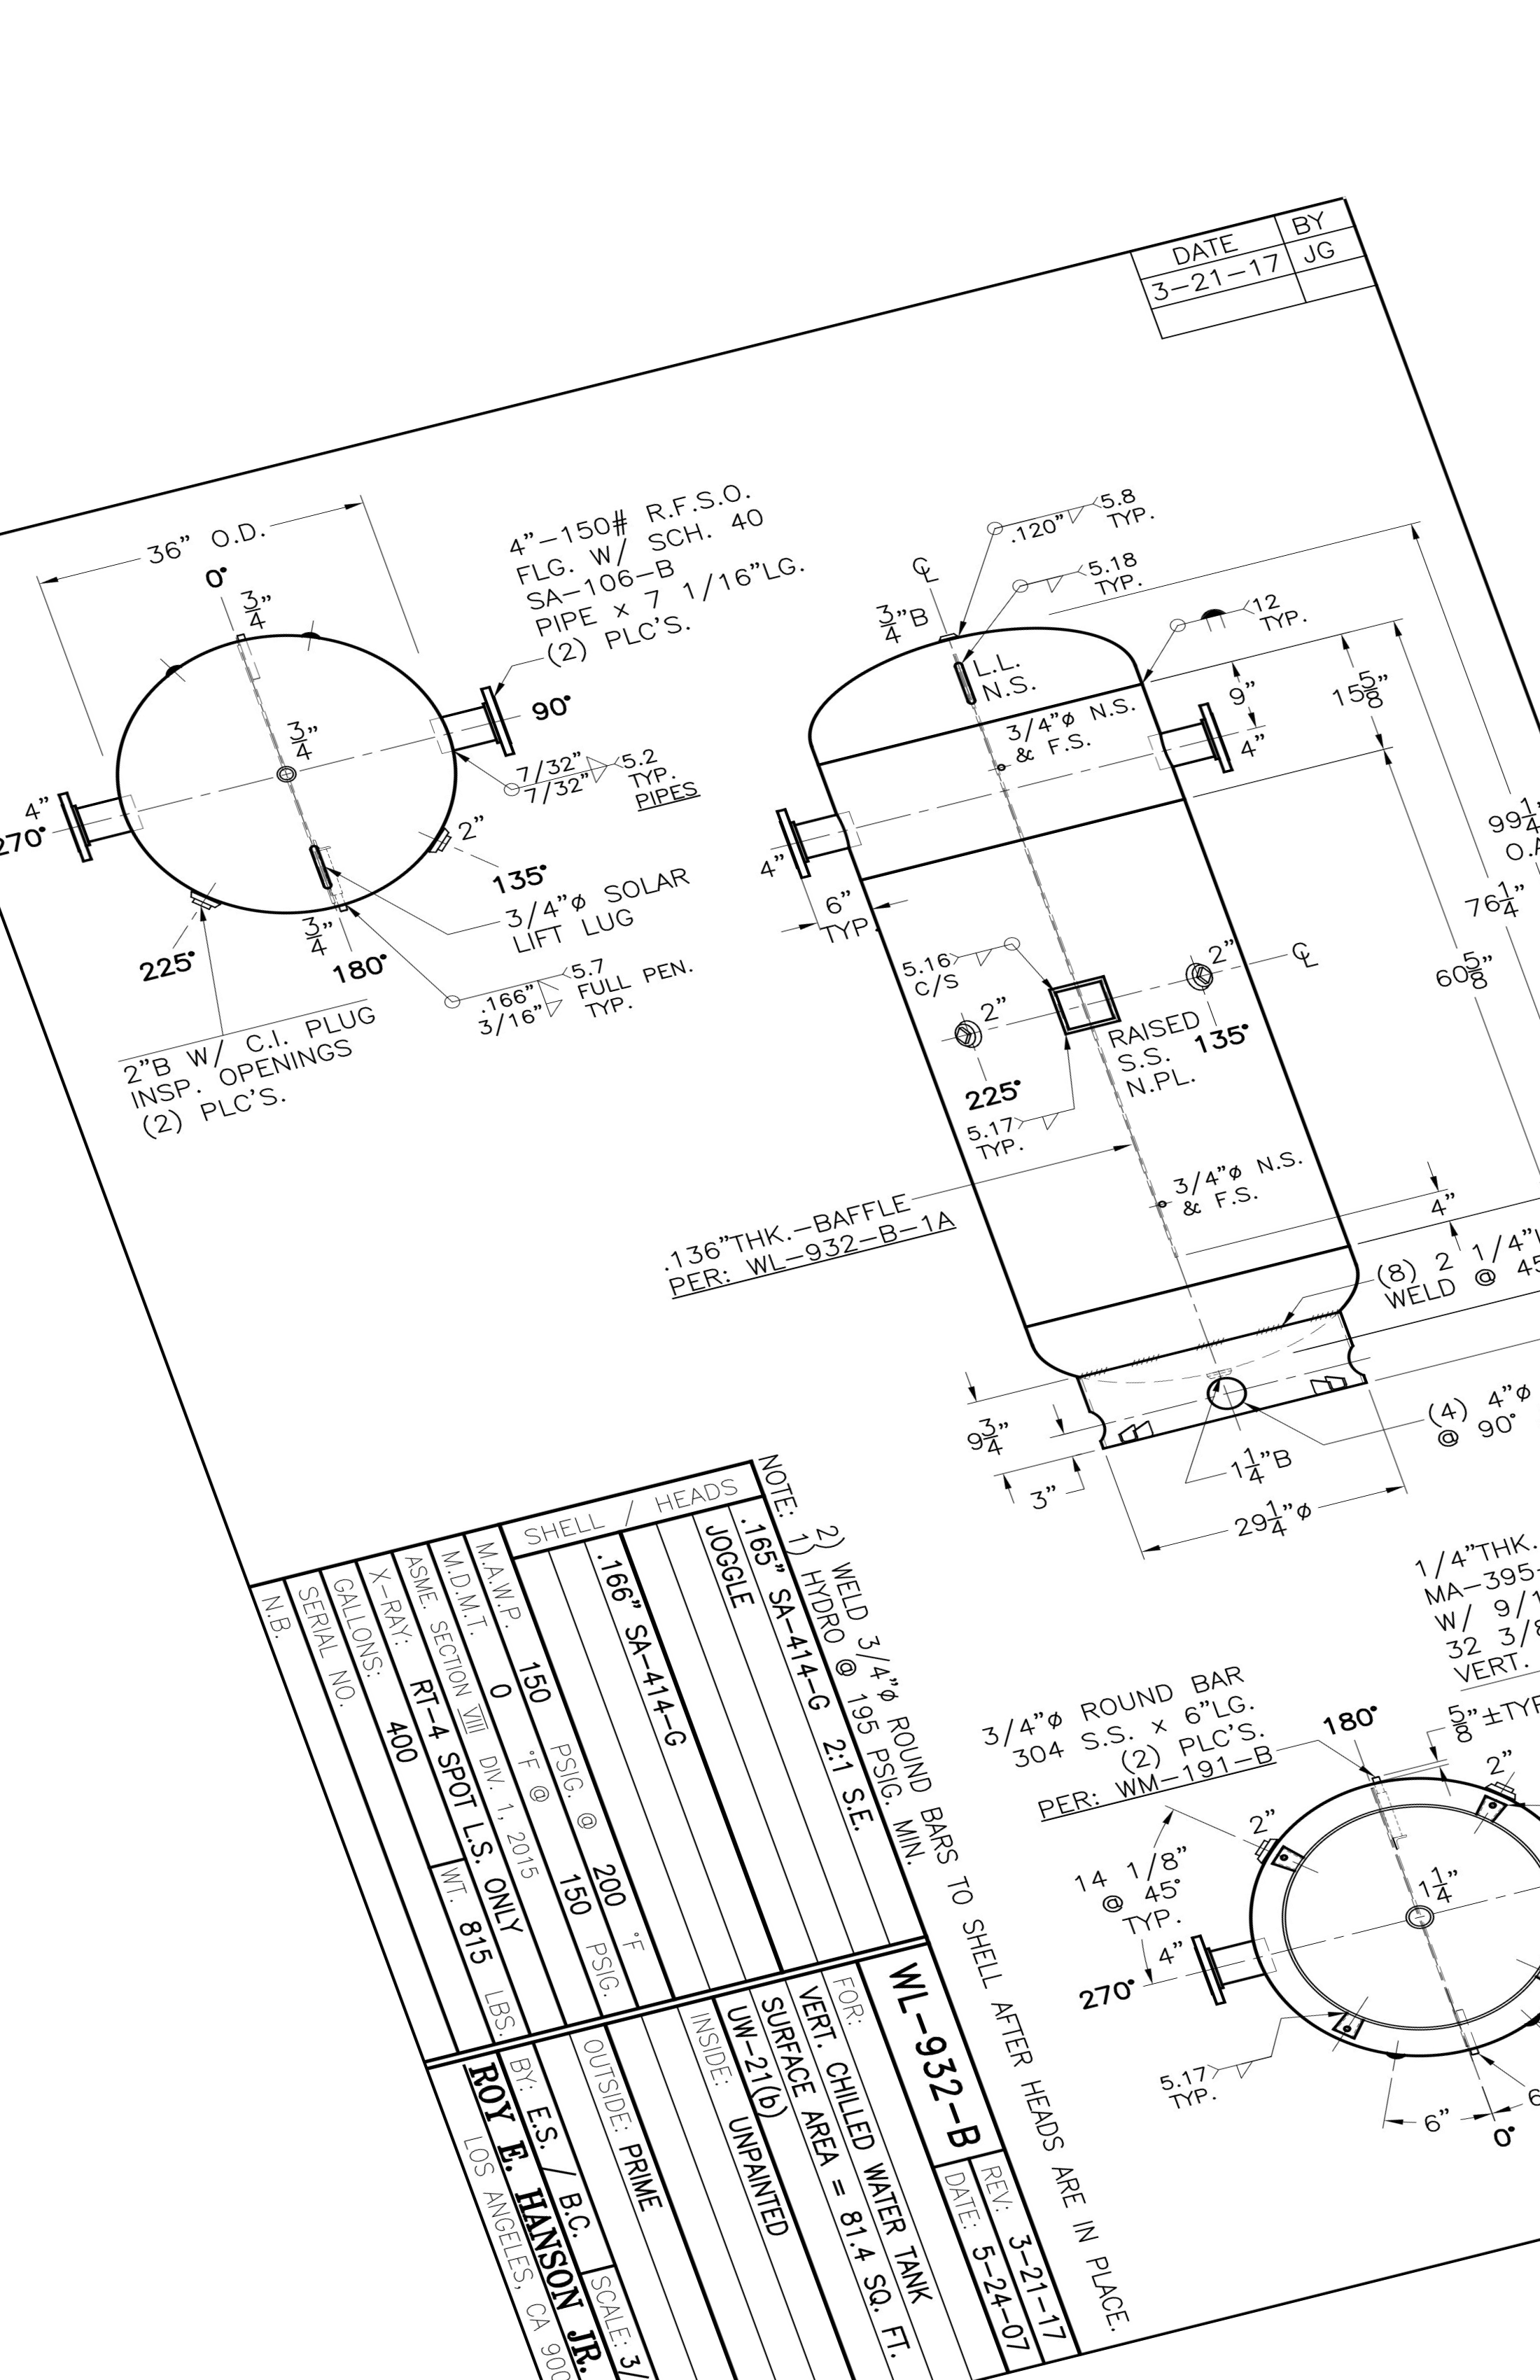Nozzle: (33, 762, 173, 902), (401, 677, 558, 793), (1122, 697, 1271, 805), (730, 777, 871, 890), (1152, 1915, 1290, 2019)
